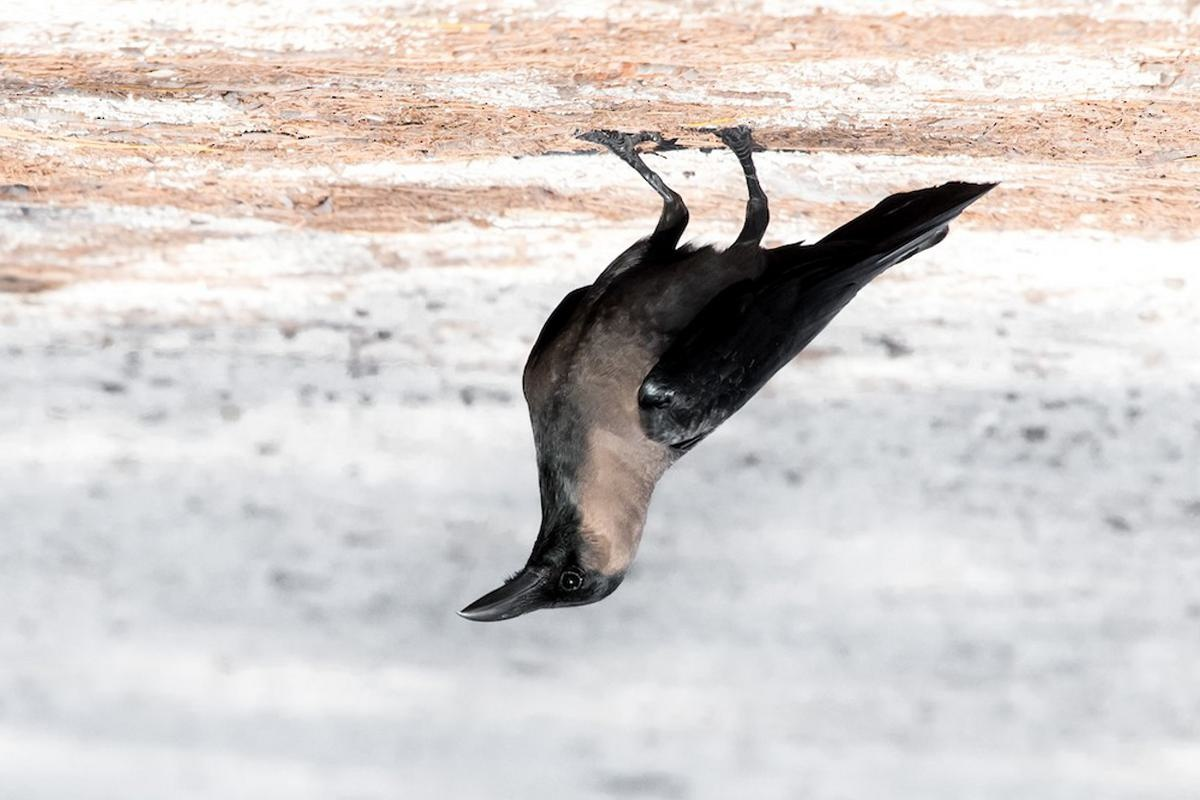crow: (452, 91, 1004, 631)
